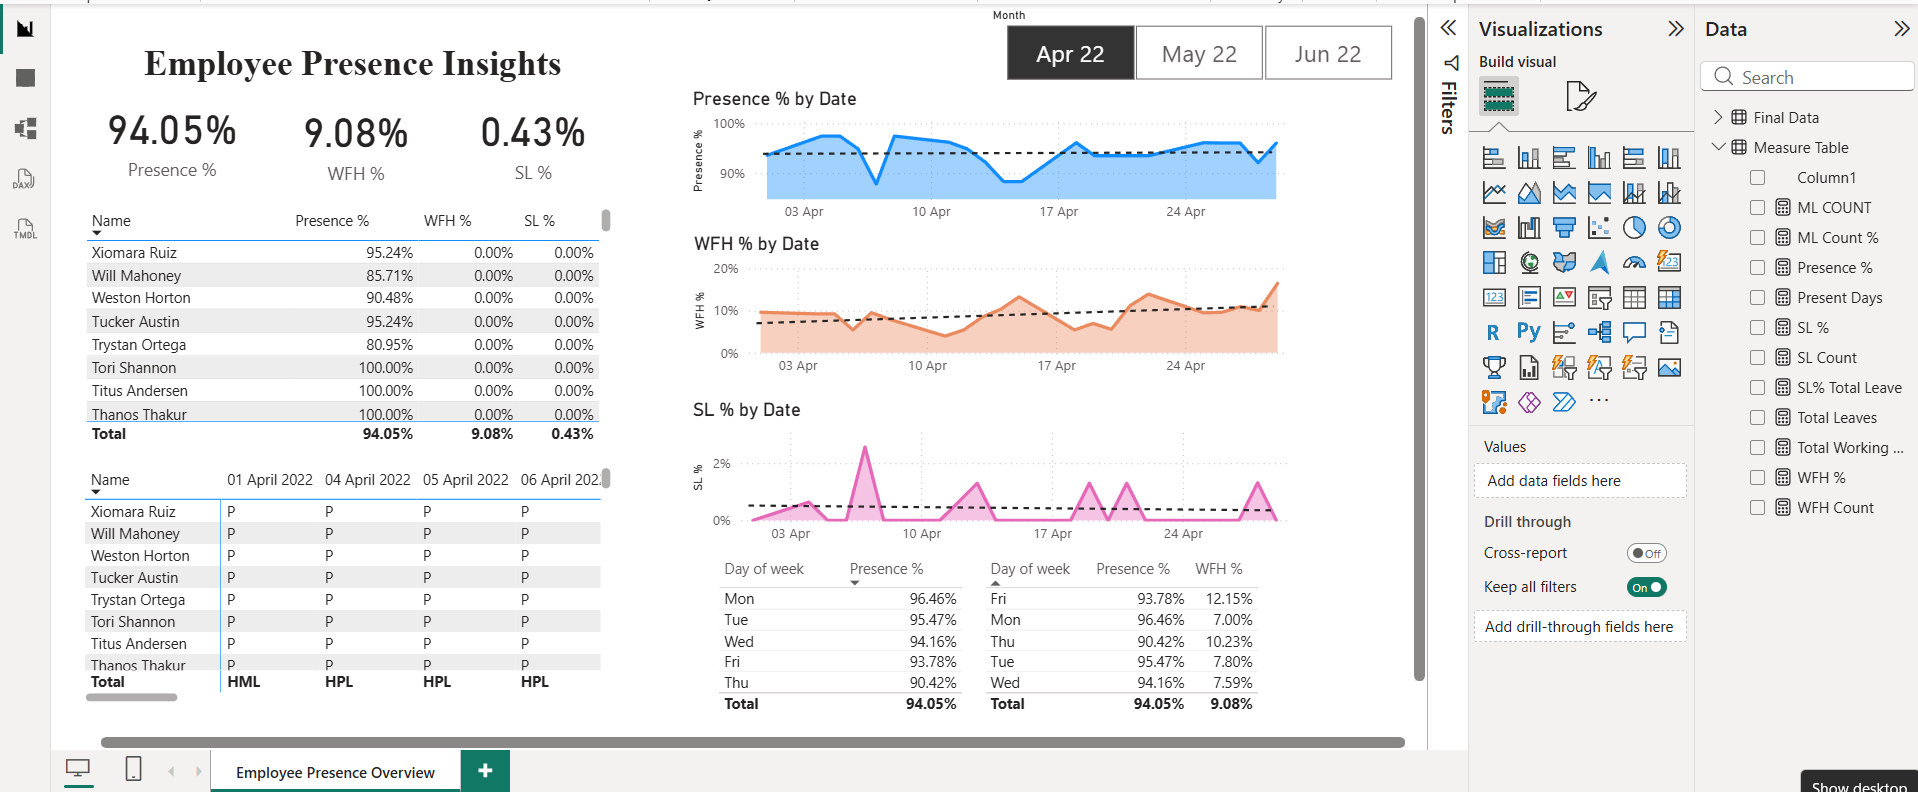

The dashboard page shown, as its layout file describes it:
{"tool":"powerbi","page":{"name":"Employee Presence Overview ","canvas":[1280,720],"ordinal":0},"visuals":[{"type":"card","fields":{"Values":["Measure Table.Presence %"]},"box":[50,65.7,165.7,117.1],"z":0},{"type":"slicer","fields":{"Values":["Final Data.Month"]},"box":[880.4,0,399.9,77],"z":1000},{"type":"card","fields":{"Values":["Measure Table.WFH %"]},"box":[215.7,65.7,168.6,122.9],"z":2000},{"type":"card","fields":{"Values":["Measure Table.SL %"]},"box":[384.3,65.7,154.3,121.4],"z":3000},{"type":"tableEx","fields":{"Values":["Final Data.Name","Measure Table.Presence %","Measure Table.WFH %","Measure Table.SL %"]},"box":[62.4,183.4,487.9,223.8],"z":4000},{"type":"textbox","box":[55.7,32.9,482.9,58.6],"z":5000},{"type":"pivotTable","fields":{"Rows":["Final Data.Name"],"Values":["Min(Final Data.Value)"],"Columns":["Final Data.Date"]},"box":[62.4,418.2,487.9,223.8],"z":6000},{"type":"areaChart","fields":{"Category":["Final Data.Date"],"Y":["Measure Table.Presence %"]},"box":[615,77.5,558.8,131.2],"z":7000},{"type":"areaChart","fields":{"Category":["Final Data.Date"],"Y":["Measure Table.WFH %"]},"box":[616.2,208.8,558.8,140],"z":8000},{"type":"areaChart","fields":{"Category":["Final Data.Date"],"Y":["Measure Table.SL %"]},"box":[615,360,558.8,141.2],"z":9000},{"type":"tableEx","fields":{"Values":["Final Data.Day of week","Measure Table.Presence %"]},"box":[637.5,501.2,242.5,155],"z":10000},{"type":"tableEx","fields":{"Values":["Final Data.Day of week","Measure Table.Presence %","Measure Table.WFH %"]},"box":[880,501.2,268.8,187.5],"z":11000}]}

Visuals, with their boxes on the page's 1280x720 design canvas (x1, y1, x2, y2). These are canvas units, not pixel positions in the 1918x792 screenshot, which may show the page scaled, cropped or inside an application window:
card - Measure Table.Presence %: bbox=[50, 66, 216, 183]
slicer - Final Data.Month: bbox=[880, 0, 1280, 77]
card - Measure Table.WFH %: bbox=[216, 66, 384, 189]
card - Measure Table.SL %: bbox=[384, 66, 539, 187]
tableEx - Final Data.Name x Measure Table.Presence %: bbox=[62, 183, 550, 407]
textbox: bbox=[56, 33, 539, 92]
pivotTable - Final Data.Name x Min(Final Data.Value): bbox=[62, 418, 550, 642]
areaChart - Final Data.Date x Measure Table.Presence %: bbox=[615, 78, 1174, 209]
areaChart - Final Data.Date x Measure Table.WFH %: bbox=[616, 209, 1175, 349]
areaChart - Final Data.Date x Measure Table.SL %: bbox=[615, 360, 1174, 501]
tableEx - Final Data.Day of week x Measure Table.Presence %: bbox=[638, 501, 880, 656]
tableEx - Final Data.Day of week x Measure Table.Presence %: bbox=[880, 501, 1149, 689]
